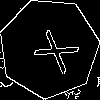X: (24, 23, 80, 76)
